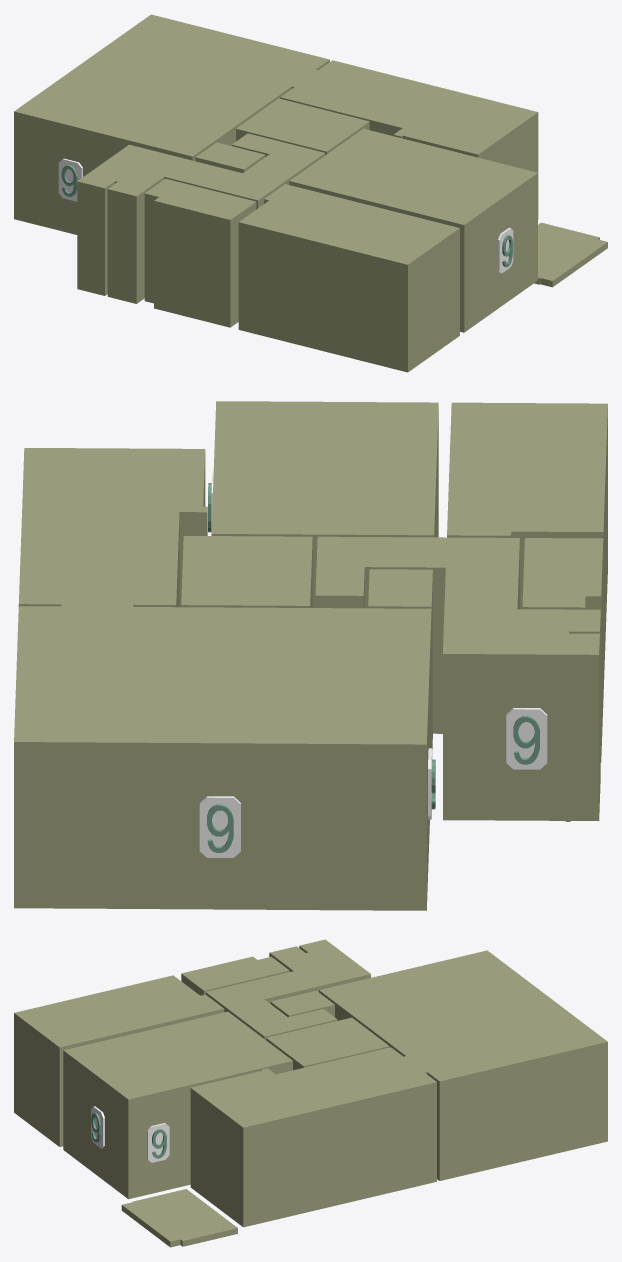
3 views of the same model, one above another, from view 1: azimuth 30°, elevation 25°; view 2: azimuth 150°, elevation 25°; view 3: azimuth 270°, elevation 25° (orthographic). The views are drawn at different scales.
Parts seen in each view (by area): view 1: g_1, g_7, g_0, g_3, g_6, g_2, g_4, g_8, g_5, g_18; view 2: g_7, g_3, g_0, g_6, g_1, g_4, g_2, g_5, g_10, g_14, g_13, g_9; view 3: g_7, g_6, g_0, g_1, g_3, g_8, g_4, g_2, g_5, g_16.
Boxes of the visible parts, x1,y1,x2,y2 form: g_1: [238, 184, 459, 372]; g_7: [14, 14, 329, 234]; g_0: [289, 128, 537, 332]; g_3: [77, 133, 325, 303]; g_6: [280, 60, 538, 219]; g_2: [144, 178, 256, 327]; g_4: [236, 98, 369, 155]; g_8: [534, 222, 607, 287]; g_5: [195, 142, 265, 173]; g_18: [58, 158, 82, 201]; g_7: [14, 605, 431, 910]; g_3: [315, 536, 600, 821]; g_0: [211, 401, 438, 607]; g_6: [18, 448, 207, 607]; g_1: [447, 402, 607, 697]; g_4: [181, 536, 312, 607]; g_2: [522, 538, 603, 762]; g_5: [368, 569, 432, 749]; g_10: [199, 796, 240, 857]; g_14: [506, 708, 547, 769]; g_13: [513, 716, 539, 764]; g_9: [207, 804, 233, 852]; g_7: [319, 950, 607, 1180]; g_6: [190, 1047, 436, 1227]; g_0: [63, 1011, 292, 1199]; g_1: [14, 975, 224, 1146]; g_3: [205, 939, 370, 1039]; g_8: [121, 1189, 237, 1247]; g_4: [266, 1017, 389, 1070]; g_2: [181, 956, 289, 995]; g_5: [270, 990, 334, 1016]; g_16: [147, 1123, 169, 1162].
Bounding box in the file's own units: 11.18 × 2.74 × 13.9.
